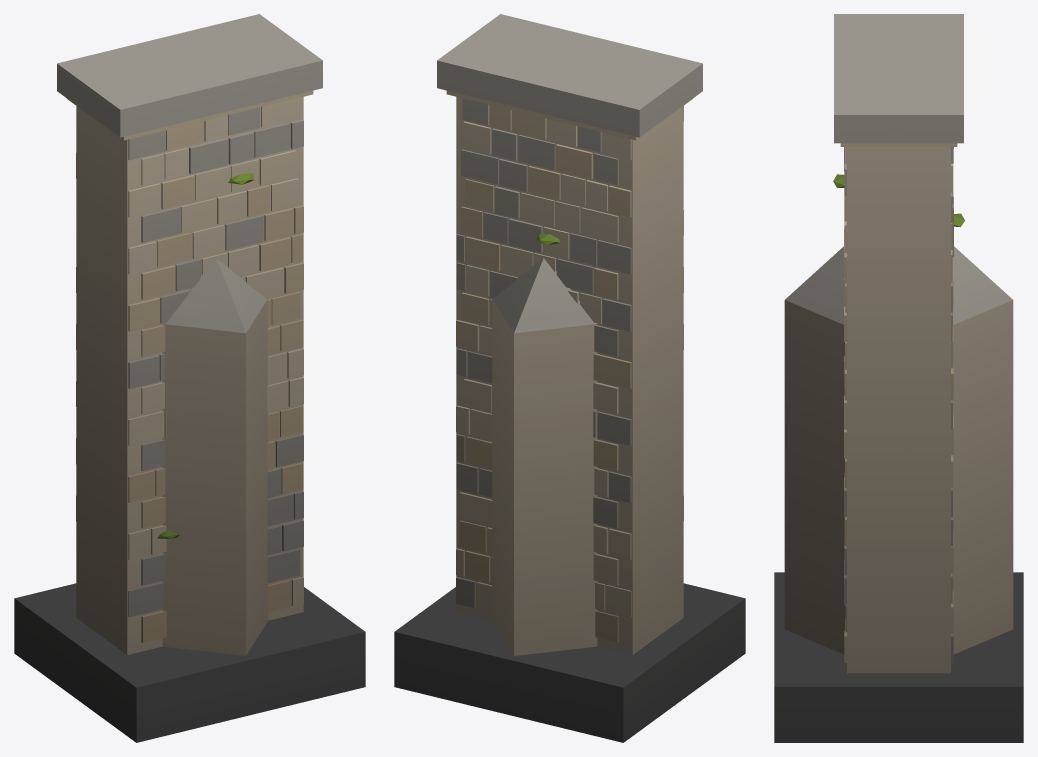
File: Bridge_Pier.fbx
The picture shows the model from 3 angles, left to right: view 1: azimuth 30°, elevation 25°; view 2: azimuth 150°, elevation 25°; view 3: azimuth 270°, elevation 25°; orthographic projection. The views are drawn at different scales.
Parts seen in each view (by area): view 1: Bridge_Pier_LOD0; view 2: Bridge_Pier_LOD0; view 3: Bridge_Pier_LOD0.
Boxes of the visible parts, box(x1,y1,x2,y2) form: Bridge_Pier_LOD0: box(14, 14, 365, 742); Bridge_Pier_LOD0: box(394, 14, 745, 742); Bridge_Pier_LOD0: box(774, 14, 1023, 742).
Size of what is drawn, in the model's own units: 5.2 by 13.2 by 4.8.
1 material, 1 textured.
